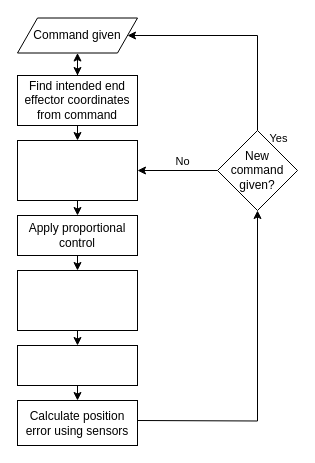
Image size: 315x463. Some labels were removed from this diagram. The centre of each missing label's shape, as x and y in pixels:
"Closed loop servo control" belongs at point (77, 365).
"Compute joint angles from continuum inverse kinematics" belongs at point (77, 170).
"Find actuator motion with servo inverse kinematics" belongs at point (77, 300).
